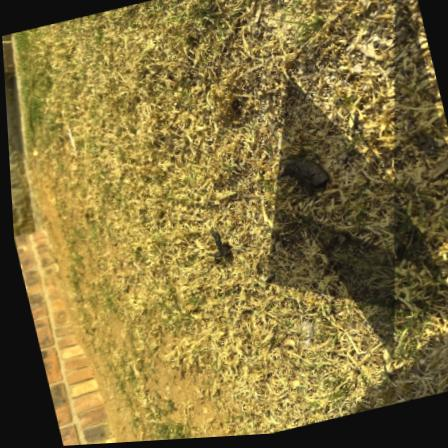dog-poop: (269, 146, 332, 199), (196, 227, 232, 271)
